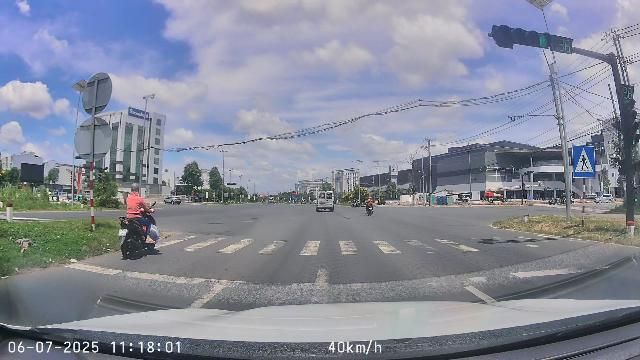423a-duong-nguoi-di-bo-sang-ngang-1: (572, 145, 596, 178)
